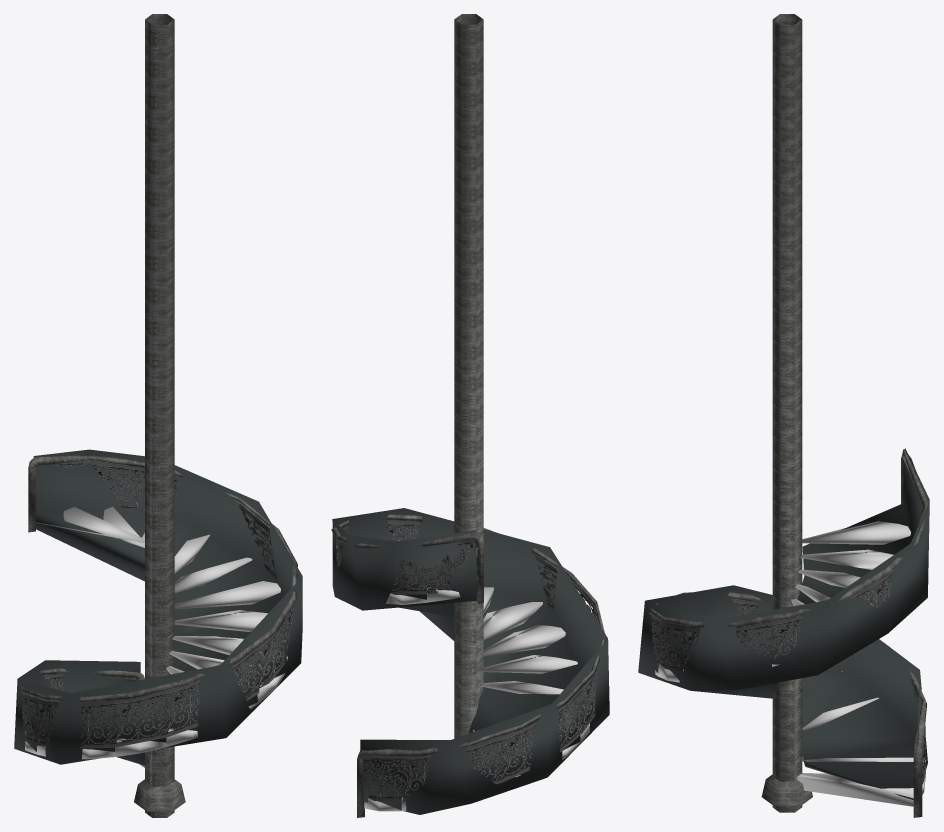
The model's file is SpiralStaircase_Iron.fbx.
3 renders of one model, left to right at view 1: azimuth 30°, elevation 25°; view 2: azimuth 150°, elevation 25°; view 3: azimuth 270°, elevation 25°, orthographic. The views are drawn at different scales.
Parts seen in each view (by area): view 1: Spiral StairCollMesh, Spiral StairCase_LOD0; view 2: Spiral StairCollMesh, Spiral StairCase_LOD0; view 3: Spiral StairCollMesh, Spiral StairCase_LOD0.
Part boxes in pixels (x1,y1,x2,y2): Spiral StairCollMesh: [14, 51, 302, 817]; Spiral StairCase_LOD0: [21, 14, 297, 811]; Spiral StairCollMesh: [332, 50, 609, 814]; Spiral StairCase_LOD0: [331, 14, 604, 817]; Spiral StairCollMesh: [638, 51, 929, 812]; Spiral StairCase_LOD0: [649, 14, 928, 817].
Size of what is drawn, in the model's own units: 498 by 1533 by 514.
